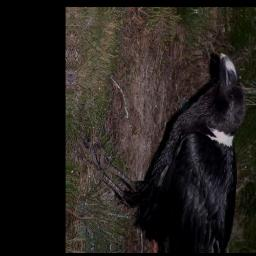Crow: (72, 47, 249, 252)
